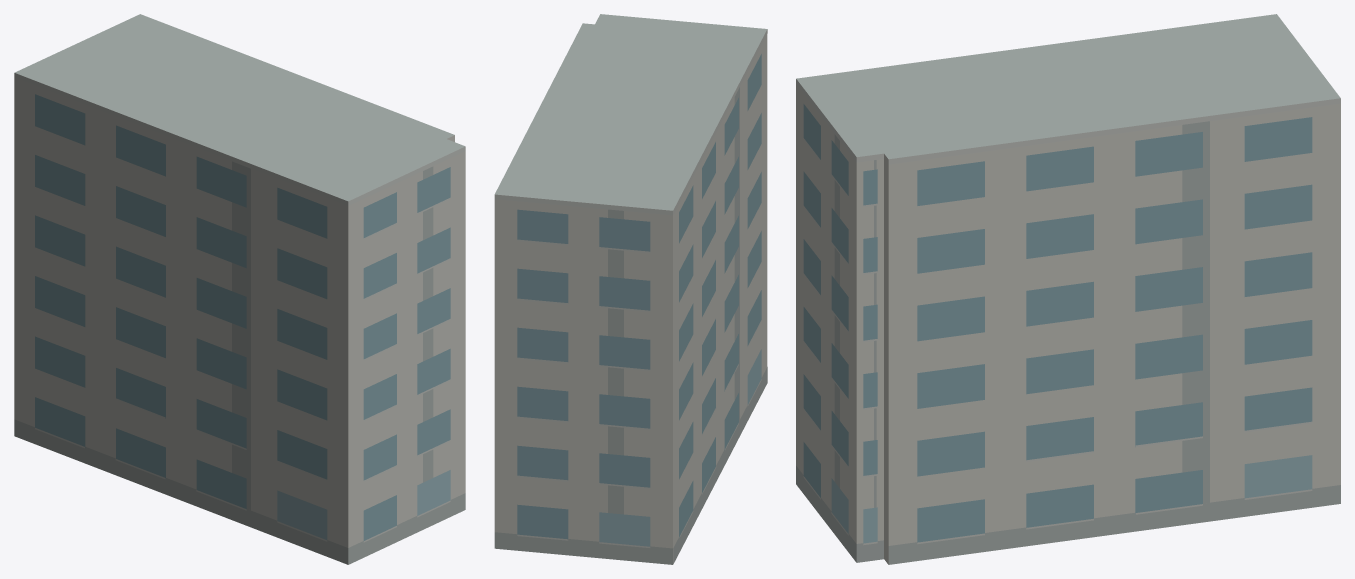
The model's file is survey-upis-32568469.glb.
3 views of the same model, side by side, from view 1: azimuth 30°, elevation 25°; view 2: azimuth 150°, elevation 25°; view 3: azimuth 270°, elevation 25° (orthographic). The views are drawn at different scales.
Visible parts, largest first — view 1: survey-upis-32568469.tmp; view 2: survey-upis-32568469.tmp; view 3: survey-upis-32568469.tmp.
Boxes of the visible parts, x1=… form: survey-upis-32568469.tmp: x1=14, y1=14, x2=465, y2=564; survey-upis-32568469.tmp: x1=494, y1=14, x2=767, y2=564; survey-upis-32568469.tmp: x1=796, y1=14, x2=1340, y2=564.
Size of the model in its own units: 14.33 by 18.65 by 22.71.
